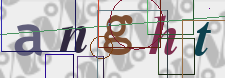a: (14, 24, 43, 57)
g: (102, 14, 132, 55)
h: (148, 15, 179, 56)
n: (60, 25, 87, 53)
t: (193, 20, 213, 57)
